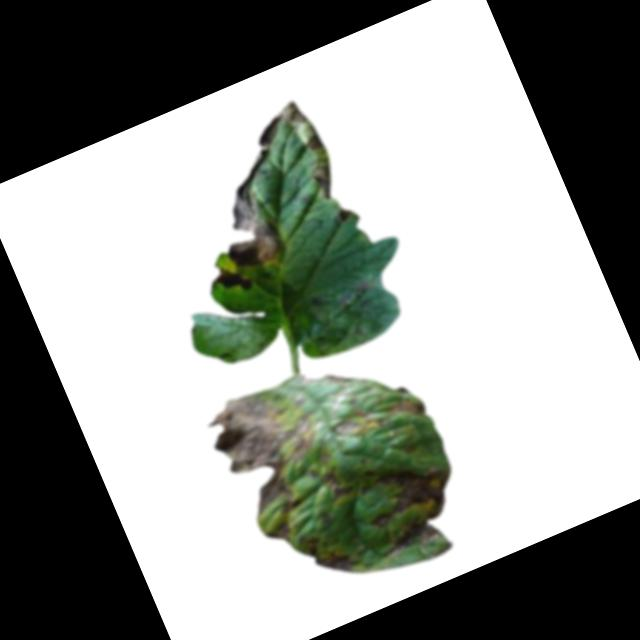Early_blight: (201, 371, 340, 519), (351, 440, 471, 561), (194, 150, 298, 275), (248, 95, 344, 216), (298, 524, 361, 587), (330, 395, 389, 445), (209, 258, 255, 304), (385, 389, 431, 429), (335, 279, 379, 316), (263, 518, 298, 547), (329, 482, 356, 503)
